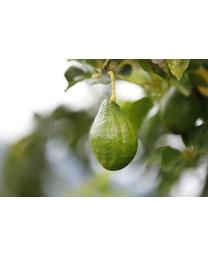avocado: (89, 99, 137, 172)
